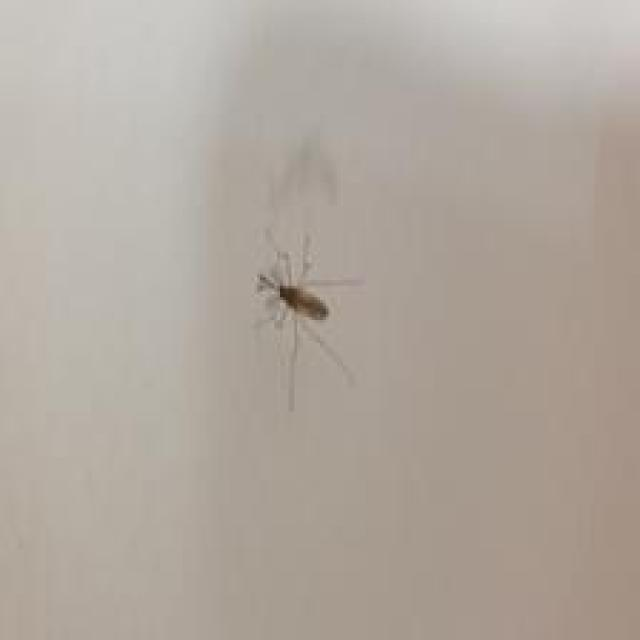Culex: (251, 226, 366, 411)
